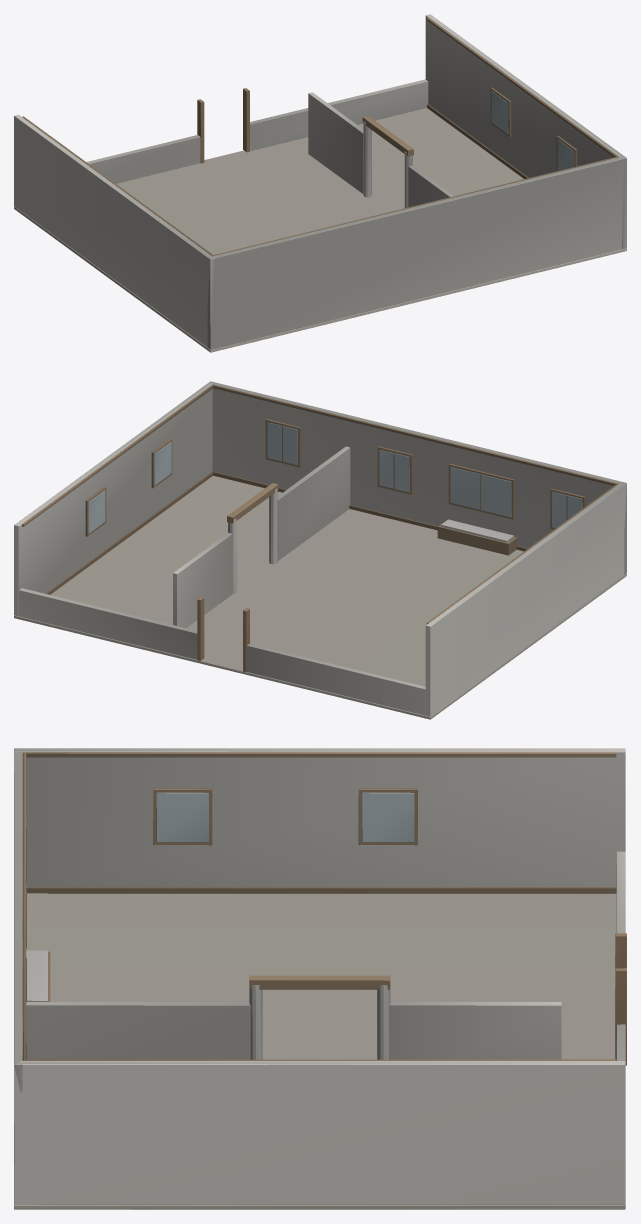
Rendered from home_manor_room__base_low.glb.
The picture shows the model from 3 angles, top to bottom: view 1: azimuth 30°, elevation 25°; view 2: azimuth 150°, elevation 25°; view 3: azimuth 270°, elevation 25°; orthographic projection. The views are drawn at different scales.
Size of the model in its own units: 16.4 by 3.51 by 13.42.
